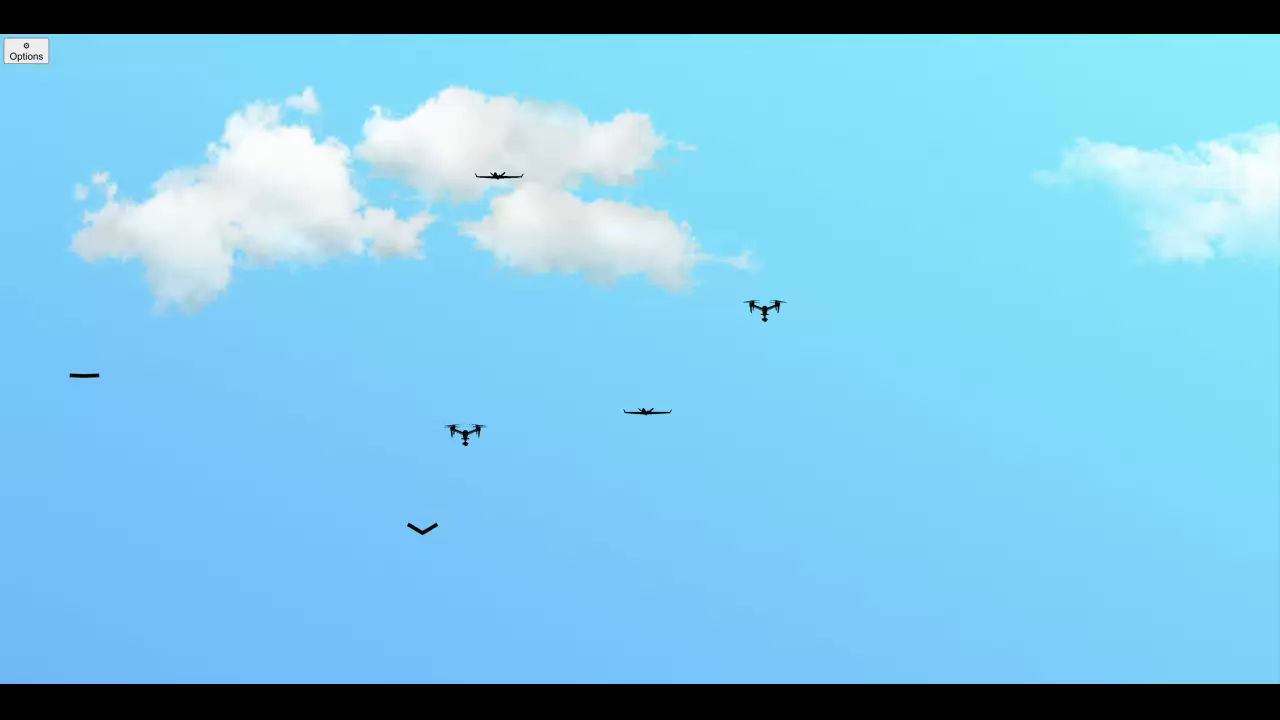Bird: (392, 507, 449, 550), (55, 351, 116, 391)
Drone: (609, 391, 690, 430), (462, 153, 537, 192)
Quadcopter: (734, 286, 800, 333), (435, 410, 500, 457)
